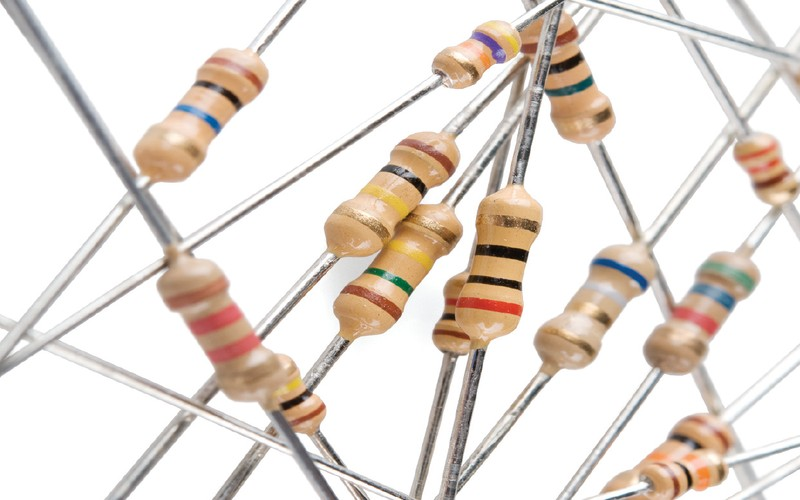Resistor: (308, 101, 556, 378), (102, 222, 325, 449), (542, 205, 768, 393), (412, 0, 624, 157), (102, 9, 285, 184), (580, 383, 762, 500), (709, 105, 800, 218)
